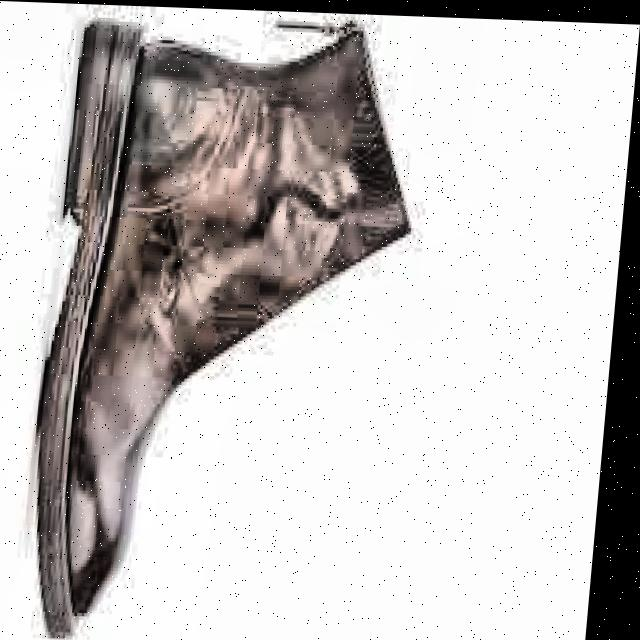shoes: (4, 2, 466, 640)
